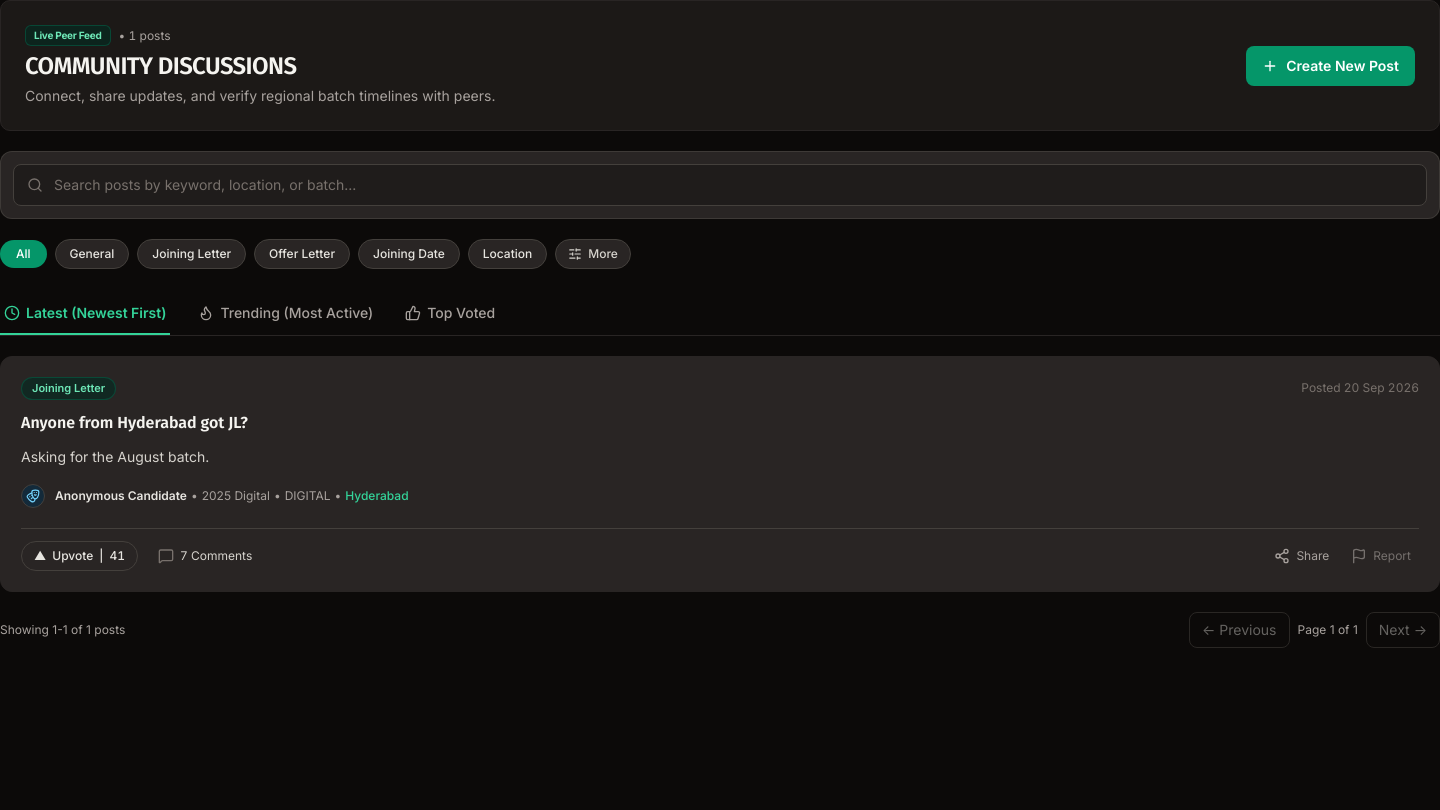
Test case: CreatePostModal (feed flow) › opens from the feed CTA
The width and height of the screenshot is (1440, 810).
Click the button "Create New Post" at (1331, 66), box [1246,46,1415,86]
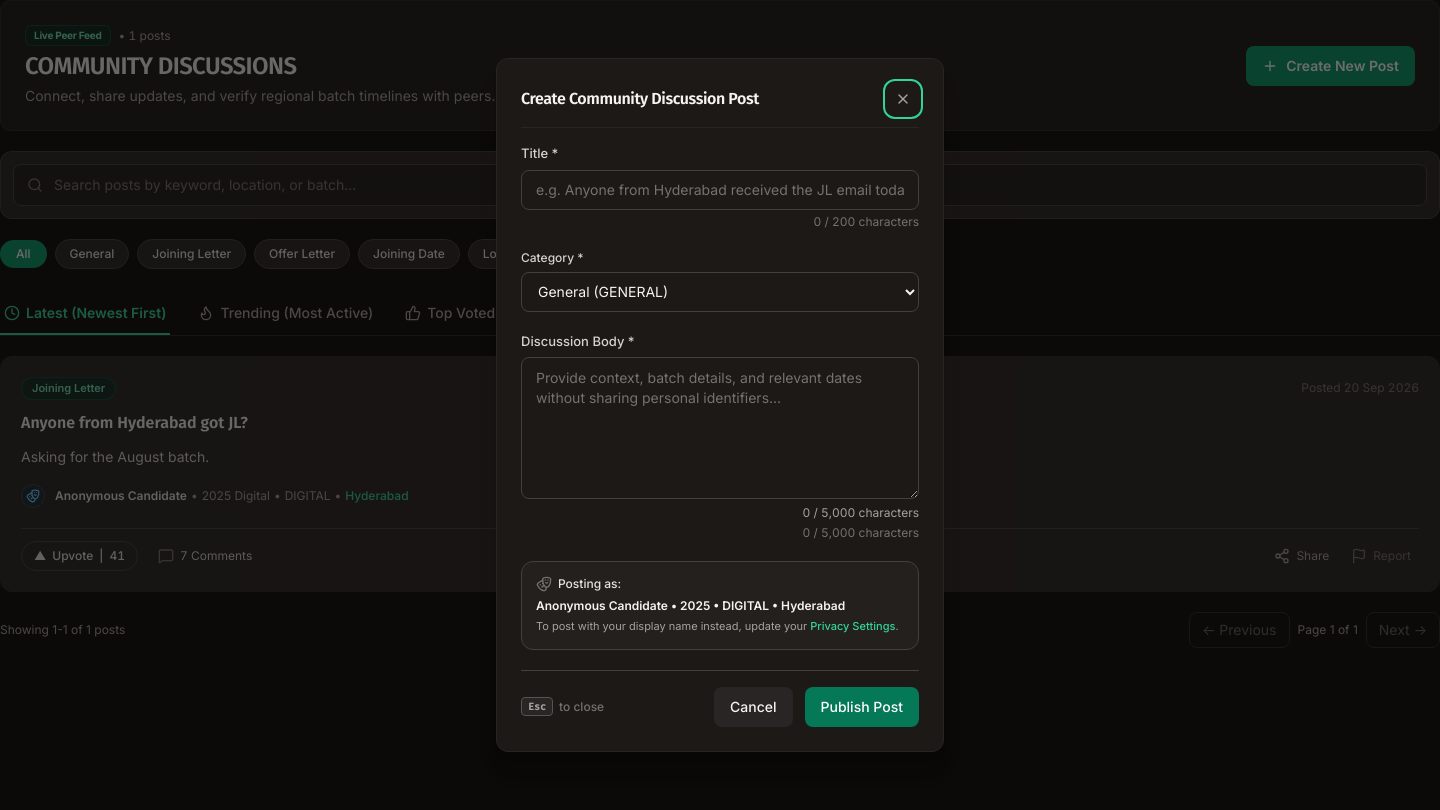
expect the dialog is shown: met, box [496,58,944,752]
expect the heading "Create Community Discussion Post" is shown: met, box [521,87,759,111]
